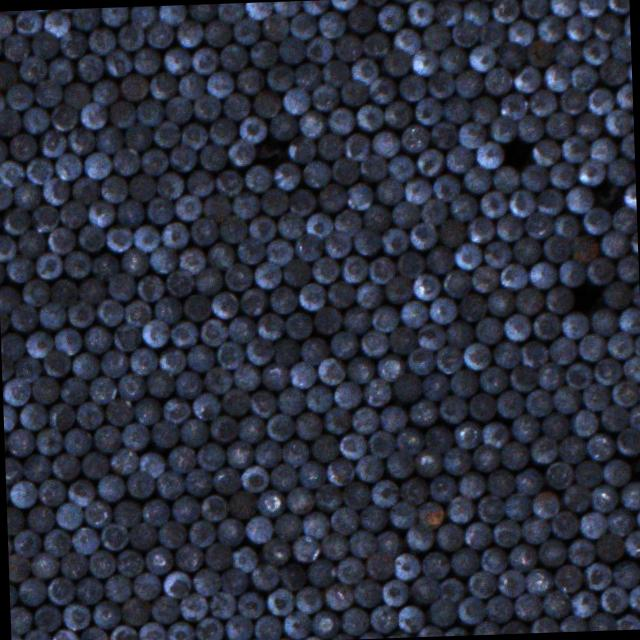tool: (552, 562, 582, 592), (390, 372, 420, 401), (115, 197, 144, 226), (420, 370, 448, 400), (146, 366, 174, 396), (512, 412, 540, 442), (352, 578, 380, 608), (414, 446, 442, 476), (348, 4, 376, 34), (324, 228, 352, 258), (272, 160, 300, 190), (212, 170, 242, 198), (200, 192, 230, 220), (30, 373, 58, 402), (362, 376, 390, 405), (31, 30, 59, 59), (414, 96, 442, 125), (38, 128, 66, 157), (326, 105, 354, 134), (106, 272, 134, 301), (219, 43, 247, 72), (119, 595, 147, 624), (409, 574, 438, 602), (134, 273, 163, 301), (426, 246, 454, 275), (594, 12, 623, 40), (210, 115, 238, 144), (597, 57, 626, 85), (316, 182, 344, 211), (196, 442, 223, 472), (245, 336, 272, 366), (298, 280, 325, 310), (276, 384, 303, 414), (602, 281, 632, 308), (10, 302, 37, 332), (603, 458, 631, 486), (192, 568, 220, 596), (502, 312, 530, 340), (140, 318, 168, 346), (582, 383, 610, 411), (100, 522, 128, 550), (94, 298, 122, 326), (478, 364, 506, 392), (519, 163, 547, 191), (541, 412, 569, 440), (18, 576, 46, 604), (360, 330, 388, 358), (260, 13, 288, 41), (128, 346, 156, 374), (210, 466, 238, 494), (12, 529, 40, 557), (48, 576, 76, 604), (284, 486, 312, 514), (102, 574, 130, 602), (18, 401, 46, 429), (268, 286, 296, 314), (353, 452, 381, 480), (266, 587, 294, 615), (582, 562, 610, 590), (132, 571, 160, 599), (334, 554, 362, 582), (598, 584, 626, 612), (98, 175, 126, 203), (202, 364, 230, 392), (156, 520, 184, 548), (164, 96, 192, 124), (486, 468, 514, 496), (2, 206, 30, 234), (592, 356, 620, 384), (434, 344, 462, 372), (344, 356, 372, 384), (126, 468, 154, 496), (36, 476, 64, 504), (62, 601, 90, 629), (536, 538, 564, 566), (174, 541, 202, 569), (24, 330, 52, 358), (110, 146, 138, 174), (442, 446, 470, 474), (536, 14, 564, 42), (474, 316, 502, 344), (332, 33, 360, 61), (400, 298, 428, 326), (256, 312, 284, 340), (66, 477, 94, 505), (136, 97, 164, 125), (312, 306, 340, 334), (240, 464, 268, 492), (524, 568, 552, 596), (514, 286, 542, 314), (126, 172, 154, 200), (378, 404, 406, 432), (41, 528, 69, 556), (18, 228, 46, 256), (327, 278, 355, 306), (449, 368, 477, 396), (388, 499, 416, 527), (109, 448, 137, 476), (304, 382, 332, 410), (420, 550, 448, 578), (96, 472, 124, 500), (514, 468, 542, 496), (18, 54, 46, 82), (167, 142, 195, 170), (236, 414, 264, 442), (390, 200, 418, 228), (104, 398, 132, 426), (72, 350, 100, 378), (393, 28, 421, 56), (193, 267, 221, 295), (154, 469, 182, 497), (582, 206, 610, 234), (198, 142, 226, 170), (454, 70, 482, 98), (482, 241, 510, 269), (224, 262, 252, 290), (527, 260, 555, 288), (112, 322, 140, 350), (472, 443, 500, 471), (568, 408, 596, 436), (577, 158, 605, 186), (22, 453, 50, 481), (386, 450, 414, 478), (580, 37, 608, 65), (565, 538, 593, 566), (552, 39, 580, 67), (568, 588, 596, 616), (605, 508, 633, 536), (422, 425, 450, 453), (586, 433, 614, 461), (239, 288, 267, 316), (400, 124, 428, 152), (552, 384, 580, 412), (214, 340, 242, 368), (586, 256, 614, 284), (162, 570, 190, 598), (178, 592, 206, 620), (468, 391, 496, 419), (416, 322, 444, 350), (294, 233, 322, 261), (508, 542, 536, 570), (608, 157, 636, 185), (262, 537, 290, 565), (386, 326, 414, 354), (311, 82, 339, 110), (384, 98, 412, 126), (149, 71, 177, 99), (322, 582, 350, 610), (230, 544, 258, 572), (332, 157, 360, 185), (244, 164, 272, 192), (37, 302, 65, 330), (444, 144, 472, 172), (86, 27, 114, 55), (152, 120, 180, 148), (340, 607, 368, 635), (456, 120, 484, 148), (326, 456, 354, 484), (368, 256, 396, 284), (116, 22, 144, 50), (172, 192, 200, 220), (292, 61, 320, 89), (280, 88, 308, 116), (396, 250, 424, 278), (520, 514, 548, 542), (341, 480, 369, 508), (33, 78, 61, 106), (374, 352, 402, 380), (542, 234, 570, 262), (442, 95, 470, 123), (92, 424, 120, 452), (160, 222, 188, 250), (63, 250, 91, 278), (528, 89, 556, 117), (230, 189, 258, 217), (29, 204, 57, 232), (612, 560, 640, 588), (307, 557, 335, 585), (50, 278, 78, 306), (456, 294, 484, 322), (24, 157, 52, 185), (430, 121, 458, 149), (205, 70, 233, 98), (222, 92, 250, 120), (371, 128, 399, 156), (400, 476, 428, 504), (249, 39, 277, 67), (198, 316, 226, 344), (362, 204, 390, 232), (432, 172, 460, 200), (488, 114, 516, 142), (162, 46, 190, 74), (442, 268, 470, 296), (298, 109, 326, 137), (294, 411, 322, 439), (344, 182, 372, 210), (268, 112, 296, 140), (364, 551, 392, 579), (227, 138, 255, 166), (288, 188, 316, 216), (302, 160, 330, 188), (138, 450, 166, 478), (566, 185, 594, 213), (252, 89, 280, 117), (238, 114, 266, 142), (358, 154, 386, 182), (283, 259, 311, 287), (546, 284, 574, 312), (599, 230, 627, 258), (106, 100, 134, 128), (496, 40, 524, 68), (154, 296, 182, 324), (334, 208, 362, 236), (234, 66, 262, 94), (250, 560, 278, 588), (349, 56, 377, 84), (561, 482, 589, 510), (314, 131, 342, 159), (222, 386, 250, 414), (371, 478, 398, 507), (178, 418, 205, 447), (501, 441, 528, 470), (94, 125, 121, 154), (311, 610, 338, 639), (417, 147, 444, 175), (463, 340, 490, 368), (34, 426, 61, 454), (438, 218, 466, 245), (83, 150, 110, 178), (331, 507, 358, 535), (391, 550, 418, 578), (550, 511, 578, 538), (190, 392, 218, 419), (452, 422, 480, 449), (529, 436, 557, 463), (541, 589, 568, 617), (53, 326, 80, 354), (485, 594, 512, 622), (83, 501, 111, 528), (265, 412, 292, 440), (227, 314, 254, 342), (492, 165, 520, 192), (140, 499, 168, 526), (452, 242, 479, 270), (412, 273, 440, 300), (331, 331, 358, 359), (462, 521, 489, 549), (532, 311, 560, 338), (537, 362, 564, 390), (349, 528, 376, 556), (150, 420, 177, 448), (21, 105, 48, 133), (590, 307, 617, 335), (495, 568, 522, 596), (467, 569, 494, 597), (396, 426, 423, 454), (349, 405, 376, 433), (605, 332, 633, 359), (338, 432, 366, 459), (87, 198, 114, 226), (560, 311, 587, 339), (130, 522, 157, 550), (5, 83, 32, 111), (21, 277, 48, 305), (10, 480, 37, 508), (296, 460, 324, 487), (93, 600, 120, 628), (557, 258, 584, 286), (484, 66, 511, 94), (186, 344, 213, 372), (559, 136, 587, 163), (439, 394, 466, 422), (289, 12, 316, 40), (530, 490, 558, 517), (245, 516, 272, 544), (74, 401, 101, 429), (55, 502, 82, 530), (173, 370, 200, 398), (278, 36, 305, 64), (293, 584, 320, 612), (370, 604, 397, 632), (451, 548, 478, 576), (80, 451, 108, 478), (79, 100, 106, 128), (147, 246, 175, 273), (228, 491, 256, 518), (88, 550, 115, 578), (3, 33, 30, 61), (63, 428, 90, 456), (9, 134, 36, 162), (188, 217, 216, 244), (72, 175, 99, 203), (42, 176, 70, 203), (512, 236, 539, 264), (172, 494, 199, 522), (416, 501, 444, 528), (396, 603, 423, 631), (524, 388, 551, 416), (254, 440, 281, 468), (133, 397, 160, 425), (558, 436, 585, 464), (58, 200, 85, 228), (449, 18, 476, 46), (58, 29, 85, 57), (105, 47, 132, 75), (548, 335, 575, 363), (445, 320, 472, 348), (491, 517, 518, 545), (407, 346, 434, 374), (448, 192, 475, 220), (604, 107, 632, 134), (32, 602, 59, 630), (314, 483, 341, 511), (60, 377, 87, 405), (118, 73, 146, 100), (170, 319, 198, 346), (372, 179, 400, 206), (115, 548, 142, 576), (410, 399, 438, 426), (470, 265, 498, 292), (88, 375, 115, 403), (205, 540, 232, 568), (311, 255, 338, 283), (13, 181, 40, 209), (219, 567, 246, 595), (168, 446, 195, 474), (506, 18, 534, 45), (536, 188, 564, 215), (543, 64, 570, 92), (209, 291, 236, 319), (219, 216, 247, 243), (192, 95, 220, 122), (183, 468, 210, 496), (398, 72, 425, 100), (320, 532, 347, 560), (409, 222, 436, 250), (157, 347, 185, 374), (205, 18, 232, 46), (182, 293, 210, 320), (544, 111, 572, 138), (468, 44, 495, 72), (165, 268, 192, 296), (476, 140, 503, 168), (260, 188, 288, 215), (340, 254, 367, 282), (300, 337, 327, 365), (526, 38, 554, 65), (185, 168, 213, 195), (379, 228, 407, 255), (236, 237, 264, 264), (359, 504, 386, 532), (610, 379, 638, 406), (117, 372, 144, 400), (176, 20, 203, 48), (356, 279, 383, 307), (322, 58, 349, 86), (310, 434, 337, 462), (304, 211, 332, 238), (138, 149, 166, 176), (249, 215, 276, 243), (84, 324, 111, 352), (252, 613, 280, 640), (50, 102, 77, 130), (265, 238, 292, 266), (418, 197, 446, 224), (200, 493, 228, 520), (548, 160, 575, 188), (404, 523, 432, 550), (288, 134, 315, 162), (206, 240, 233, 268), (494, 213, 522, 240), (124, 122, 151, 150), (352, 228, 379, 256), (181, 120, 208, 148), (146, 21, 174, 48), (276, 211, 304, 238), (176, 246, 204, 273), (571, 235, 599, 262), (376, 2, 402, 31), (208, 415, 235, 442), (6, 255, 33, 282), (466, 216, 493, 243), (112, 500, 139, 527), (479, 191, 506, 218), (334, 379, 361, 406), (14, 354, 41, 381), (208, 590, 235, 617), (224, 441, 251, 468), (422, 23, 449, 50), (289, 361, 316, 388), (52, 453, 79, 480), (188, 520, 215, 547), (509, 364, 536, 391), (157, 172, 184, 199), (456, 596, 483, 623), (362, 31, 389, 58), (233, 362, 260, 389), (429, 474, 456, 501), (477, 20, 504, 47), (387, 155, 414, 182), (403, 176, 430, 203), (146, 196, 173, 223), (545, 460, 572, 487), (301, 512, 328, 539), (410, 49, 437, 76), (79, 277, 106, 304), (354, 103, 381, 130), (589, 137, 616, 164), (250, 389, 277, 416), (132, 225, 159, 252), (520, 339, 547, 366), (523, 212, 551, 238), (428, 296, 456, 322), (70, 526, 96, 554), (578, 333, 604, 361), (144, 544, 170, 572), (280, 438, 306, 466), (368, 430, 394, 458), (316, 356, 342, 384), (456, 472, 484, 498), (508, 188, 534, 216), (54, 152, 80, 180), (122, 422, 148, 450), (75, 575, 101, 603), (446, 494, 472, 522), (270, 462, 296, 490), (2, 376, 28, 404), (282, 610, 308, 638), (580, 510, 606, 538), (152, 594, 178, 622), (191, 47, 217, 75), (476, 494, 502, 522), (590, 483, 616, 511), (68, 300, 94, 328), (318, 9, 344, 37), (574, 458, 600, 486), (382, 579, 408, 607), (496, 388, 522, 416), (132, 47, 158, 75), (223, 614, 251, 640), (216, 518, 242, 546), (486, 288, 512, 316), (428, 70, 454, 98), (274, 512, 300, 540), (100, 350, 126, 378), (514, 592, 540, 620), (284, 312, 312, 338), (44, 348, 70, 376), (26, 506, 54, 532), (512, 64, 538, 92), (530, 138, 558, 164), (238, 589, 264, 617), (342, 131, 368, 159), (570, 64, 596, 92), (437, 521, 463, 549), (596, 532, 622, 560), (162, 398, 190, 424), (611, 206, 637, 234), (76, 54, 102, 82), (560, 88, 588, 114), (428, 596, 454, 624), (78, 224, 104, 252), (576, 112, 602, 140), (272, 338, 298, 366), (6, 428, 32, 456), (500, 92, 528, 118), (368, 76, 394, 104), (264, 64, 292, 90), (472, 97, 498, 125), (64, 82, 90, 110), (438, 46, 464, 74), (492, 339, 518, 366), (254, 262, 281, 288), (36, 251, 62, 278), (258, 489, 284, 516), (600, 404, 626, 431), (304, 36, 331, 62), (504, 493, 530, 520), (384, 276, 411, 302), (479, 546, 506, 572), (30, 552, 57, 578), (342, 306, 369, 332), (566, 13, 592, 40), (499, 262, 526, 288), (462, 165, 488, 192), (324, 408, 351, 434), (68, 128, 95, 154), (44, 9, 70, 36), (291, 534, 317, 561), (517, 115, 543, 142), (482, 422, 509, 448), (90, 78, 116, 105), (124, 298, 151, 324), (382, 49, 408, 76), (48, 227, 74, 254), (552, 213, 579, 239), (179, 72, 206, 98), (232, 16, 258, 43), (122, 248, 148, 275), (278, 561, 304, 588), (92, 253, 118, 280), (339, 80, 366, 106), (106, 225, 134, 250), (49, 56, 74, 84), (586, 88, 612, 114), (372, 305, 398, 331), (61, 550, 87, 576), (564, 362, 590, 388), (262, 362, 288, 388), (374, 528, 400, 554), (49, 401, 74, 428), (406, 0, 433, 25), (616, 427, 640, 455), (196, 616, 223, 640), (14, 10, 41, 34), (434, 0, 461, 24), (462, 0, 489, 24), (438, 578, 465, 602), (0, 332, 23, 360), (131, 5, 158, 28), (491, 0, 519, 22), (72, 8, 100, 30), (616, 255, 638, 282), (619, 306, 640, 334), (157, 4, 186, 24), (10, 604, 30, 633), (0, 159, 21, 186), (610, 34, 631, 61), (620, 481, 640, 509), (8, 552, 28, 580), (587, 611, 615, 631), (98, 6, 128, 24), (217, 2, 244, 22), (166, 620, 193, 640), (107, 622, 136, 640), (0, 285, 19, 312), (137, 622, 165, 640), (0, 106, 18, 134), (558, 614, 586, 632), (0, 61, 17, 90), (622, 354, 640, 381), (187, 4, 217, 20), (623, 528, 640, 556), (528, 616, 556, 633), (521, 0, 548, 17), (7, 506, 23, 534), (616, 82, 632, 110), (4, 456, 20, 484), (577, 0, 604, 16), (245, 2, 272, 18), (549, 0, 577, 15), (273, 1, 301, 16), (615, 613, 640, 629), (415, 623, 443, 637), (474, 620, 500, 635), (0, 232, 14, 259), (81, 626, 108, 640), (620, 133, 634, 160), (499, 620, 526, 634), (2, 403, 16, 430), (622, 181, 636, 208), (627, 582, 640, 610), (50, 627, 78, 640), (301, 0, 328, 13), (1, 354, 14, 380), (628, 402, 640, 430), (0, 181, 11, 209), (21, 629, 48, 640), (0, 10, 11, 37), (606, 0, 629, 12), (445, 625, 470, 636), (330, 0, 358, 9), (628, 229, 638, 254), (632, 280, 640, 310), (356, 630, 382, 639), (622, 10, 630, 39), (326, 632, 354, 640), (0, 306, 8, 334), (9, 582, 16, 609), (633, 331, 640, 358), (0, 136, 6, 163), (362, 0, 388, 6), (635, 506, 640, 533), (298, 635, 325, 640), (240, 636, 265, 640), (10, 633, 22, 640), (0, 88, 3, 115), (0, 260, 3, 286), (390, 0, 418, 2)
tool_b: (254, 137, 290, 167), (592, 182, 621, 210), (630, 452, 640, 486)
